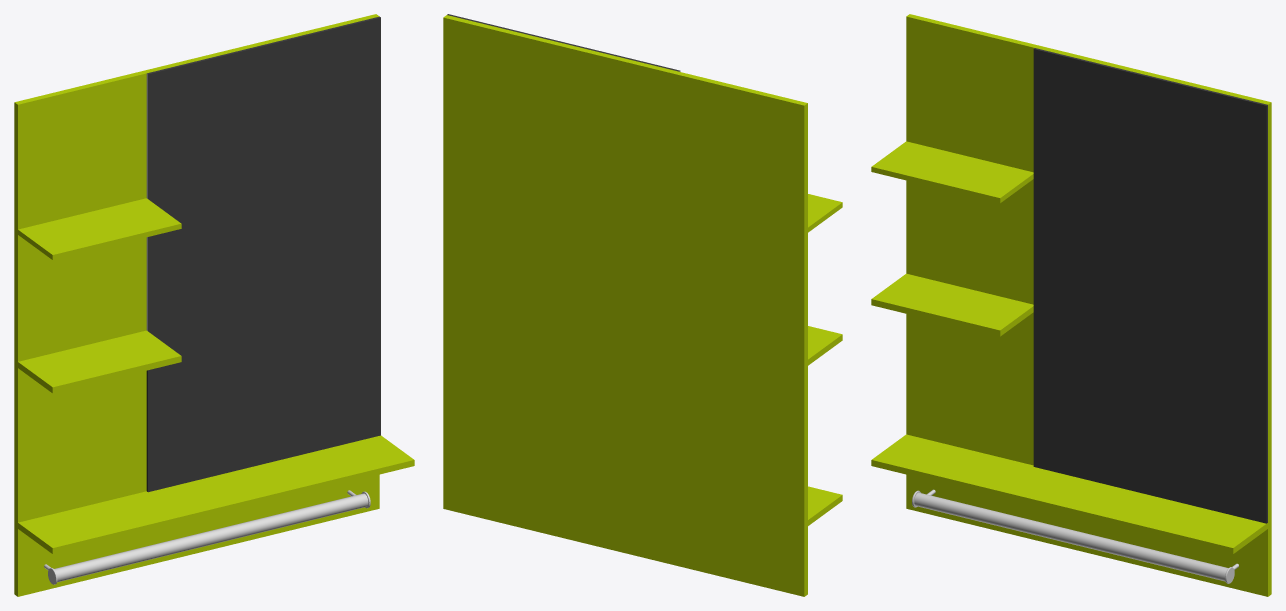
Rendered from Mirror.FBX.
The picture shows the model from 3 angles, left to right: view 1: azimuth 30°, elevation 25°; view 2: azimuth 150°, elevation 25°; view 3: azimuth 330°, elevation 25°; orthographic projection.
Parts seen in each view (by area): view 1: Mirror; view 2: Mirror; view 3: Mirror.
Boxes of the visible parts, x1,y1,x2,y2 form: Mirror: (14,14,414,596); Mirror: (443,14,842,596); Mirror: (871,14,1271,596).
Bounding box in the file's own units: 23.62 × 30.71 × 4.33.
